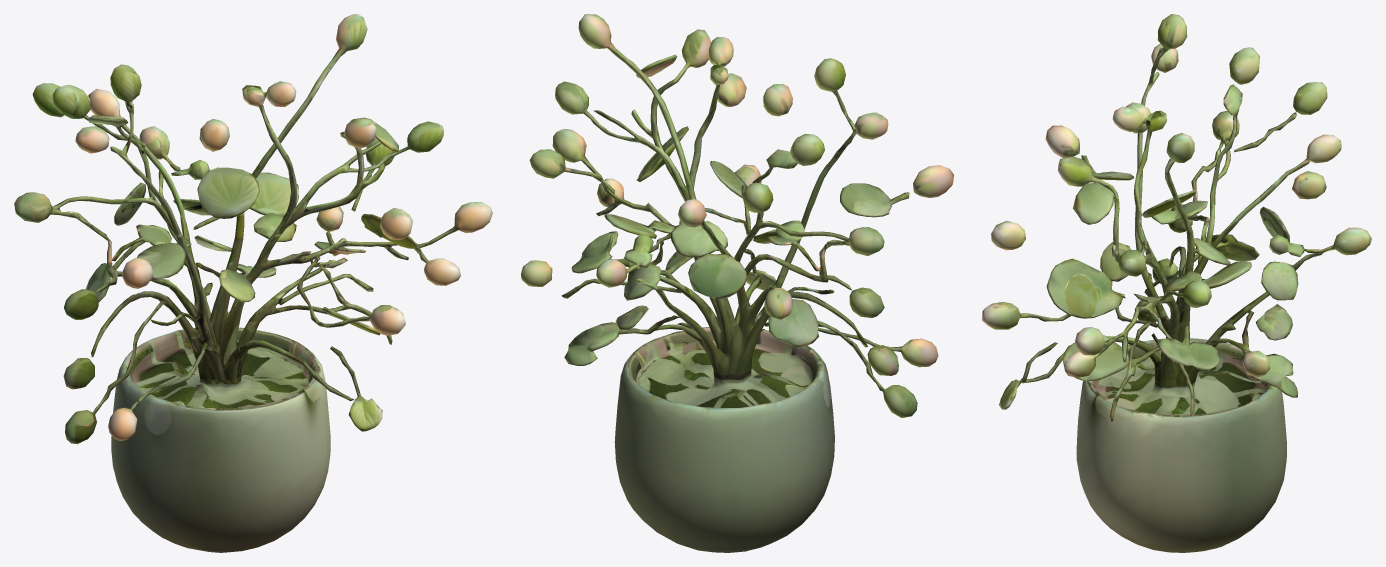
File: A_whimsical_living_pl_1128004520_texture.fbx
The picture shows the model from 3 angles, left to right: view 1: azimuth 30°, elevation 25°; view 2: azimuth 150°, elevation 25°; view 3: azimuth 270°, elevation 25°; orthographic projection. The views are drawn at different scales.
Visible parts, largest first — view 1: Mesh_0; view 2: Mesh_0; view 3: Mesh_0.
Part boxes in pixels (box(x1,y1,x2,y2)): Mesh_0: box(14, 14, 492, 552); Mesh_0: box(521, 14, 953, 552); Mesh_0: box(982, 14, 1371, 552).
Bounding box in the file's own units: 169 × 200 × 149.
Materials: 1 (1 with a texture image).
